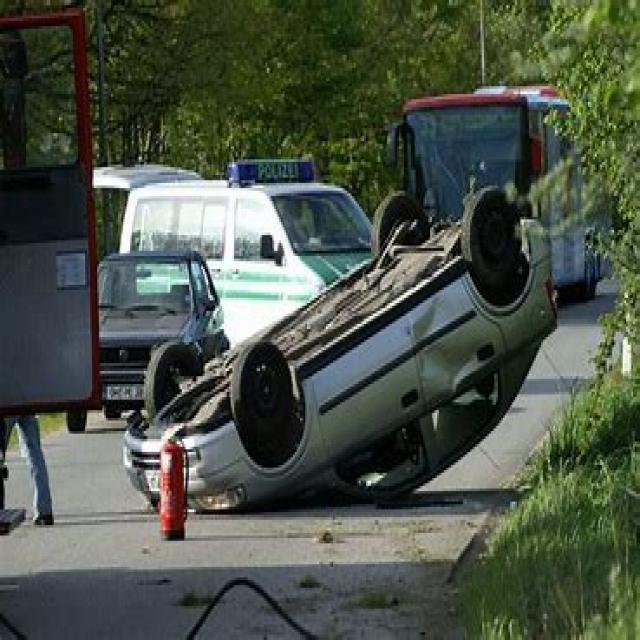Accident: (145, 208, 586, 494)
